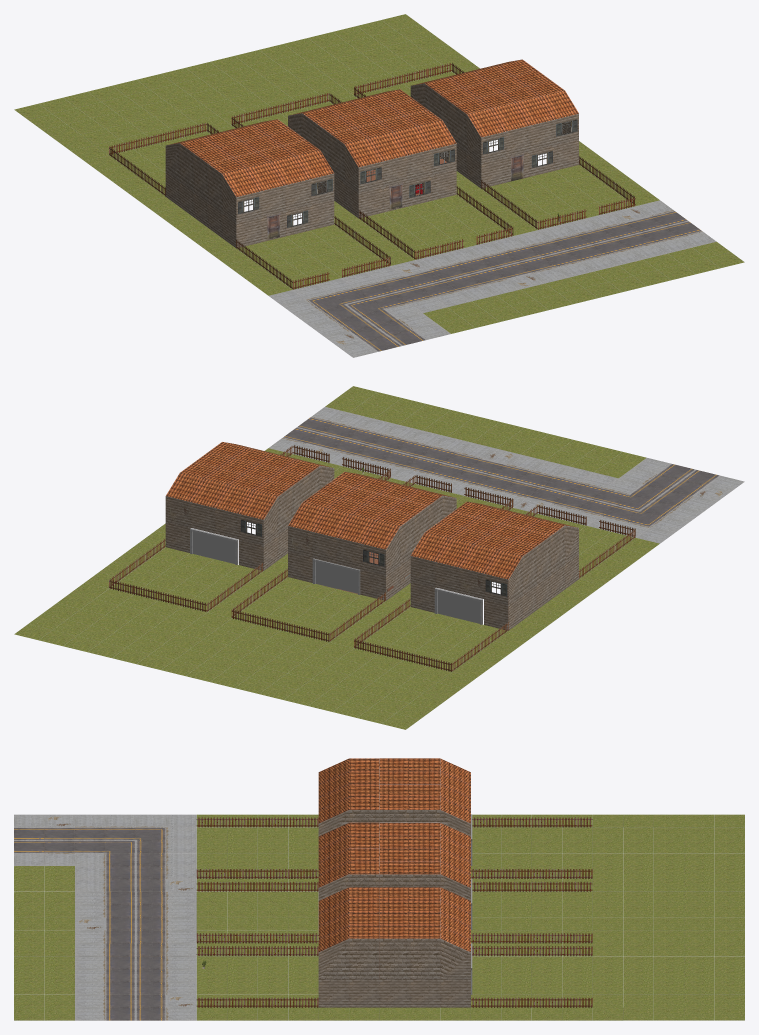
Rendered from mdl_house.obj.
The picture shows the model from 3 angles, top to bottom: view 1: azimuth 30°, elevation 25°; view 2: azimuth 150°, elevation 25°; view 3: azimuth 270°, elevation 25°; orthographic projection. The views are drawn at different scales.
Parts seen in each view (by area): view 1: Cube_Cube.001; view 2: Cube_Cube.001; view 3: Cube_Cube.001.
Boxes of the visible parts, x1,y1,x2,y2 form: Cube_Cube.001: (14,14,744,357); Cube_Cube.001: (14,386,744,729); Cube_Cube.001: (14,758,744,1020).
Bounding box in the file's own units: 32 × 5.78 × 48.
